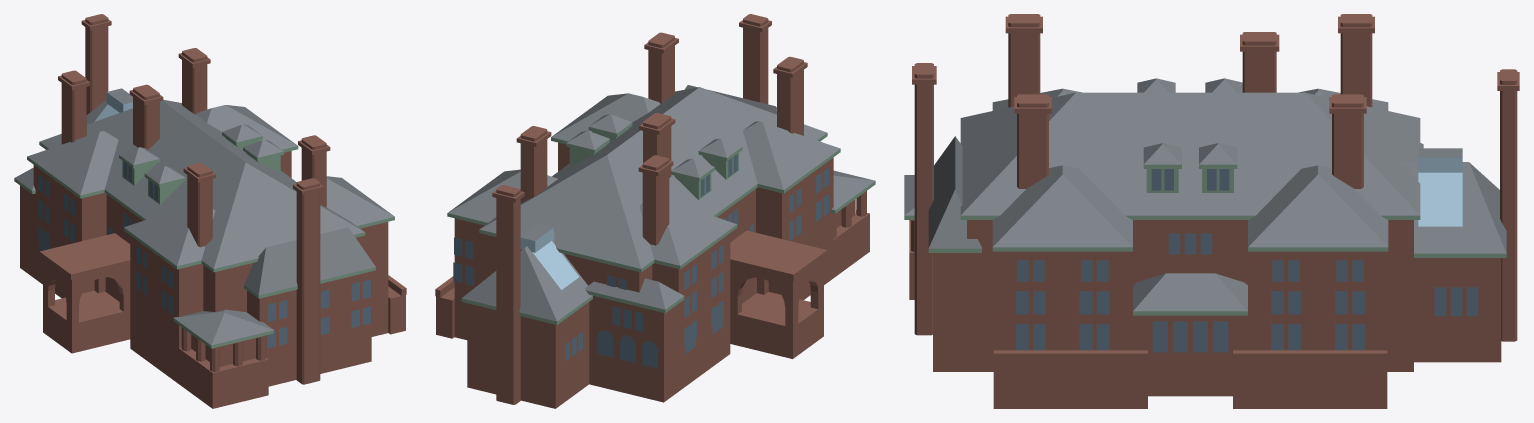
The model's file is msp-james-j-hill-house.glb.
3 renders of one model, left to right at view 1: azimuth 30°, elevation 25°; view 2: azimuth 150°, elevation 25°; view 3: azimuth 270°, elevation 25°, orthographic. The views are drawn at different scales.
Visible parts, largest first — view 1: James J. Hill House; view 2: James J. Hill House; view 3: James J. Hill House.
Boxes of the visible parts, <box> form: James J. Hill House: <box>14,14,406,408</box>; James J. Hill House: <box>435,14,875,408</box>; James J. Hill House: <box>904,14,1519,408</box>.
Bounding box in the file's own units: 39.6 × 28 × 57.85.
